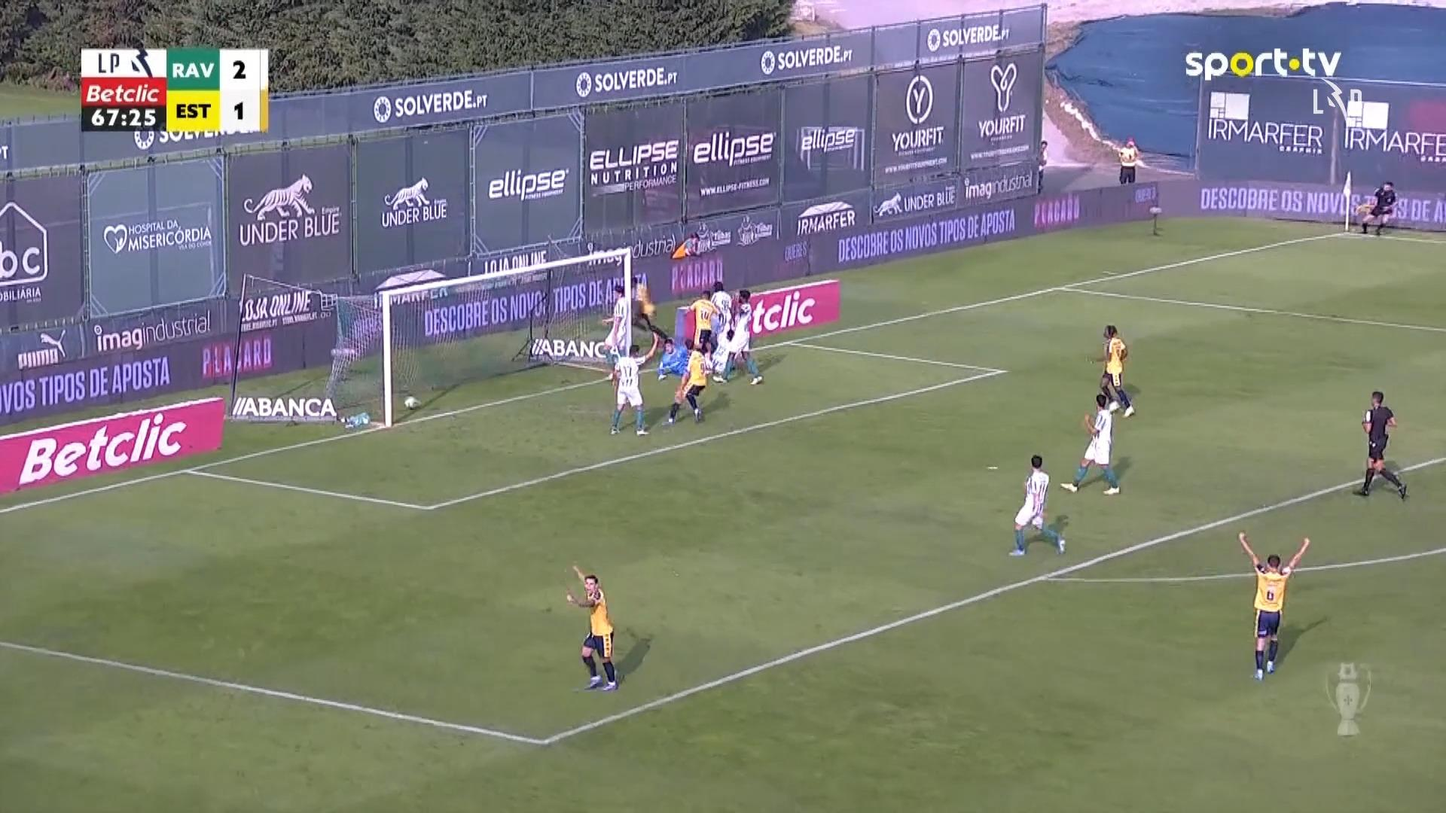ball: (404, 396, 419, 409)
goalkeeper: (655, 336, 689, 381)
player: (1237, 530, 1310, 681), (564, 563, 619, 691), (1059, 391, 1121, 495), (1008, 453, 1066, 556), (608, 330, 661, 436), (711, 288, 764, 385), (1091, 324, 1135, 417), (663, 342, 711, 425), (682, 287, 722, 376), (631, 277, 673, 343), (599, 284, 630, 372), (710, 281, 733, 352)
referee: (1352, 389, 1408, 501), (1356, 180, 1396, 235)
